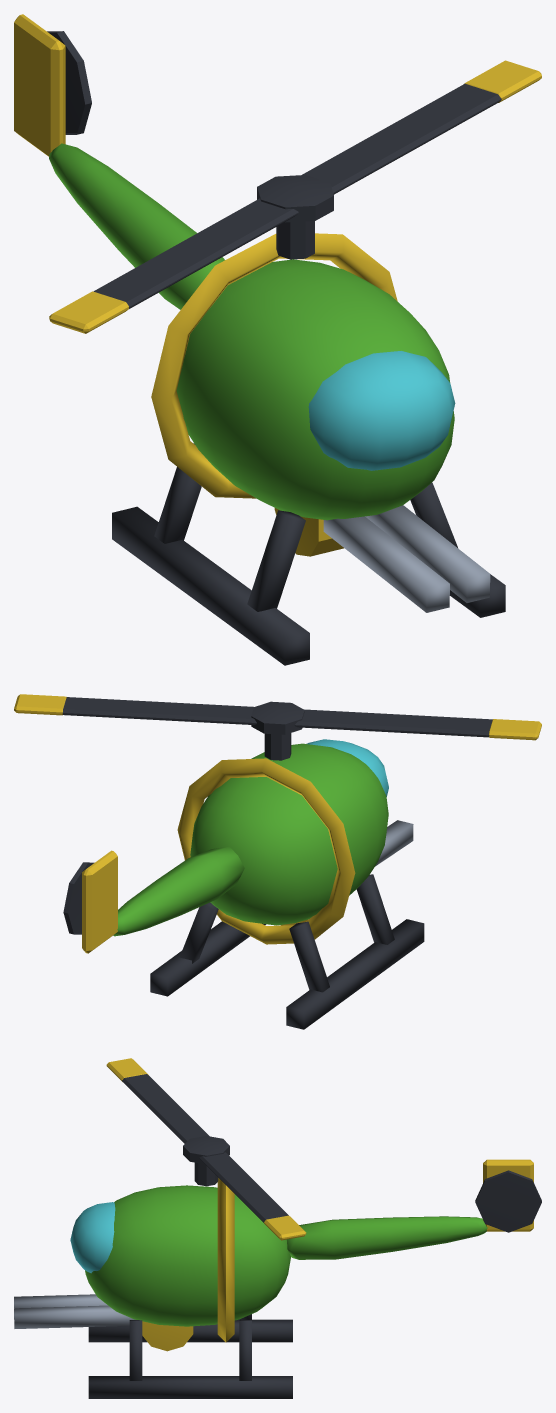
3 renders of one model, top to bottom at view 1: azimuth 30°, elevation 25°; view 2: azimuth 150°, elevation 25°; view 3: azimuth 270°, elevation 25°, orthographic. The views are drawn at different scales.
Visible parts, largest first — view 1: heli_0_base, heli_1_torreta; view 2: heli_0_base, heli_1_torreta; view 3: heli_0_base, heli_1_torreta.
Boxes of the visible parts, box(x1,y1,x2,y2) form: heli_0_base: box(14, 14, 505, 665); heli_1_torreta: box(49, 60, 541, 333); heli_0_base: box(63, 739, 424, 1029); heli_1_torreta: box(14, 694, 541, 760); heli_0_base: box(14, 1159, 541, 1398); heli_1_torreta: box(106, 1058, 306, 1240).
Bounding box in the file's own units: 1.08 × 0.632 × 1.35.
